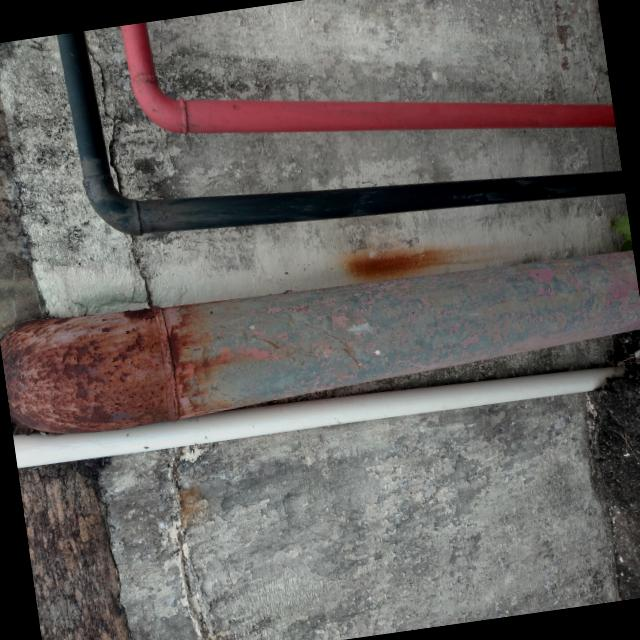gas: (1, 250, 640, 434), (57, 35, 625, 233), (13, 368, 602, 466), (123, 23, 615, 128)
